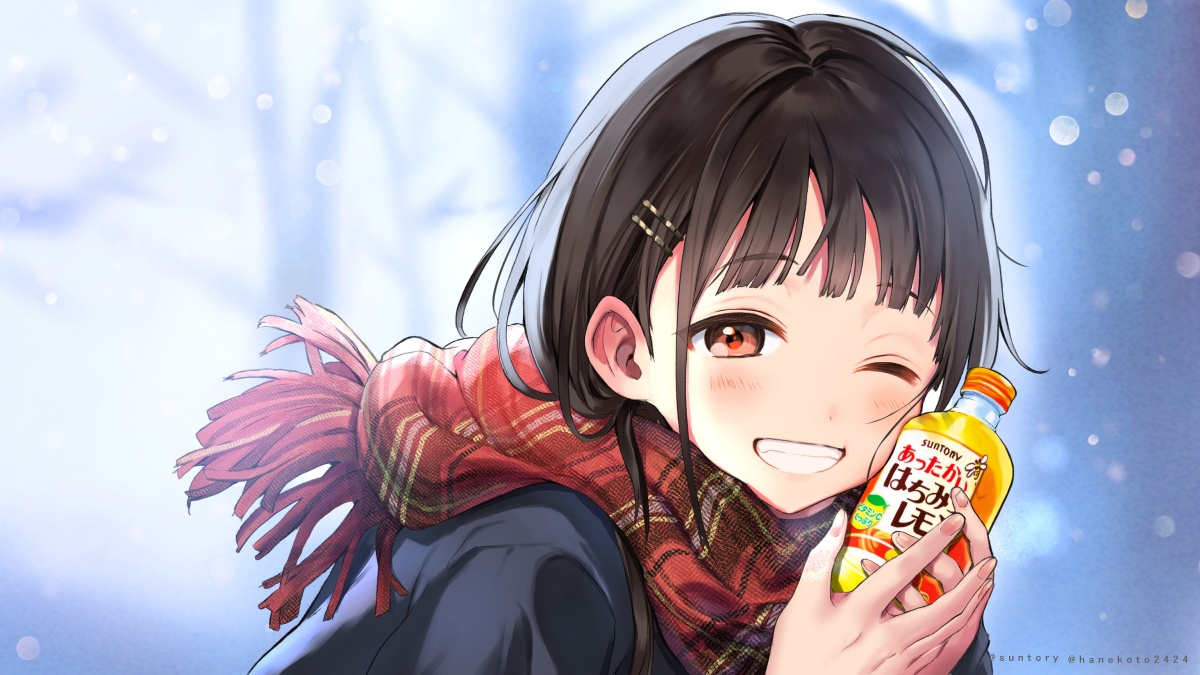纸片人正脸: (536, 7, 1018, 528)
